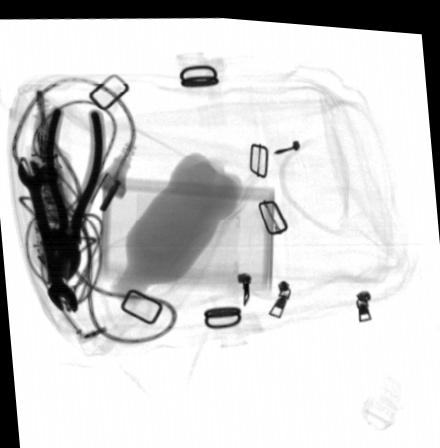Pliers: (42, 101, 106, 282)
Wrench: (18, 158, 77, 309)
